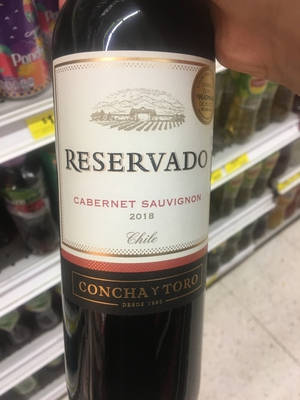reservado cabernet sauvignon: (49, 2, 215, 400)
